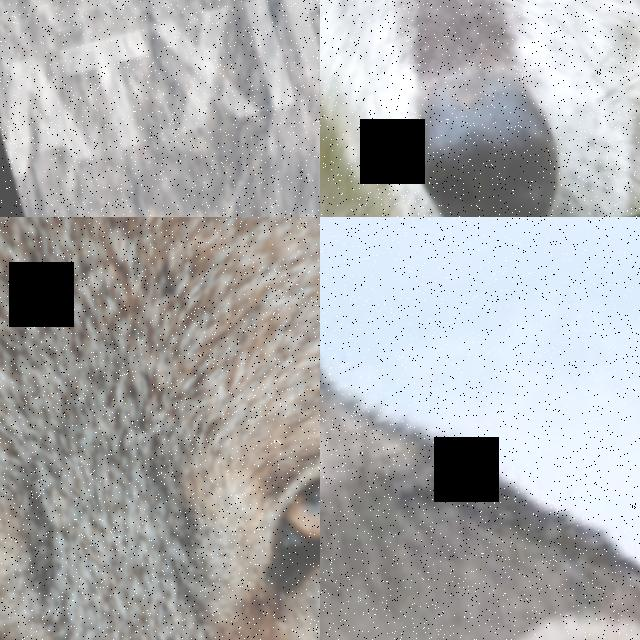wolf: (0, 217, 320, 640), (320, 217, 640, 640), (0, 0, 320, 217), (320, 0, 640, 217)
